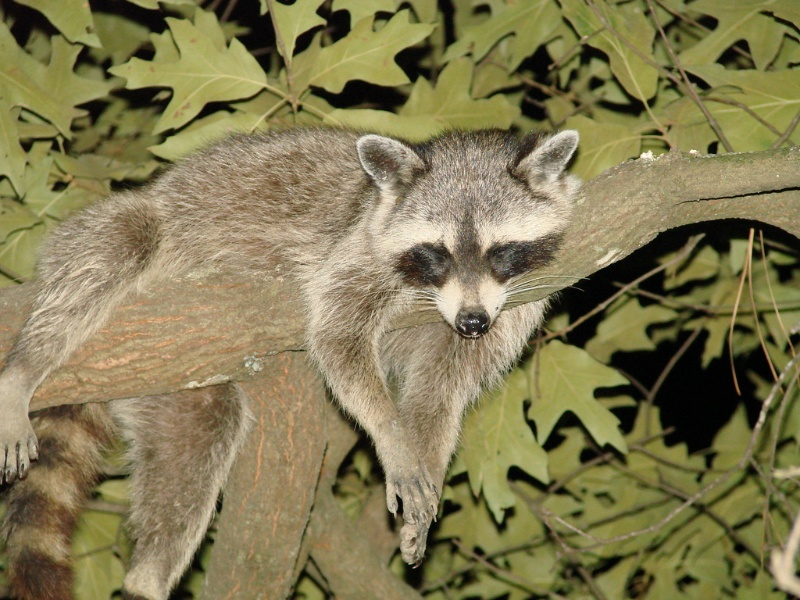raccoon: (4, 124, 584, 568)
